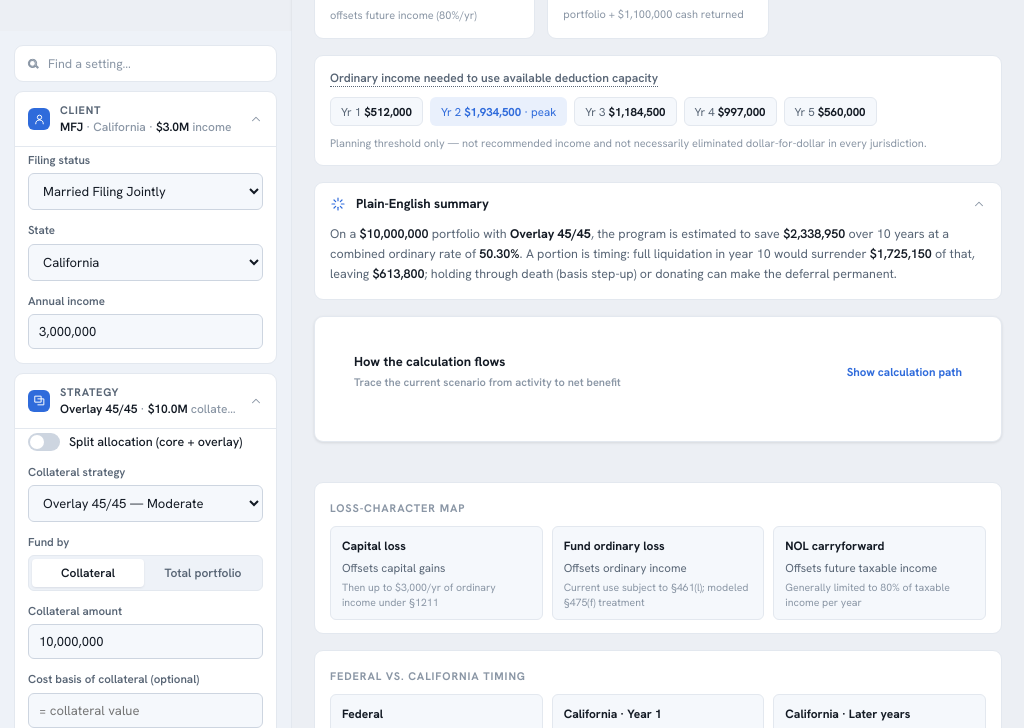
Test: Workspace calculation flow explainer › traces engine outputs from strategy activity through liquidation without parallel totals
(page scrolled)
What coordinates should you click on to do the following:
click the text "How the calculation flows"
I would click on:
 (430, 362)
Its box is 354,353 -> 505,370.
(page scrolled)
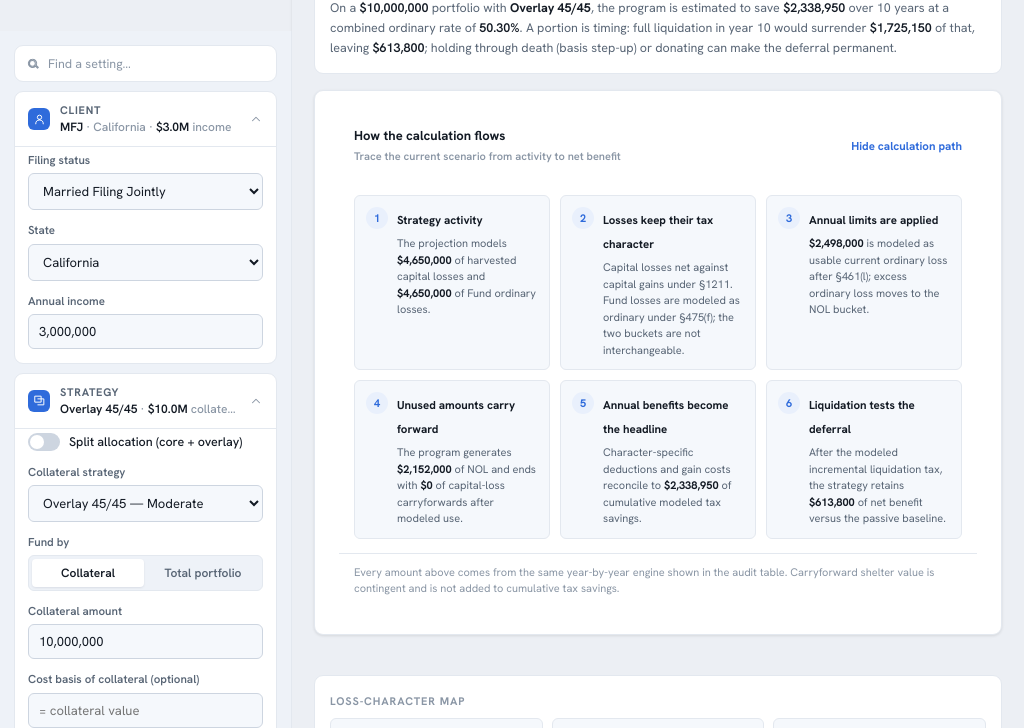
Check: the element with test id "wx-calc-flow" shows "Strategy activity", box 397,212 -> 483,227
Check: the element with test id "wx-calc-flow" shows "Losses keep their tax character", box 603,212 -> 713,251
Check: the element with test id "wx-calc-flow" shows "Annual limits are applied", box 809,212 -> 938,227
